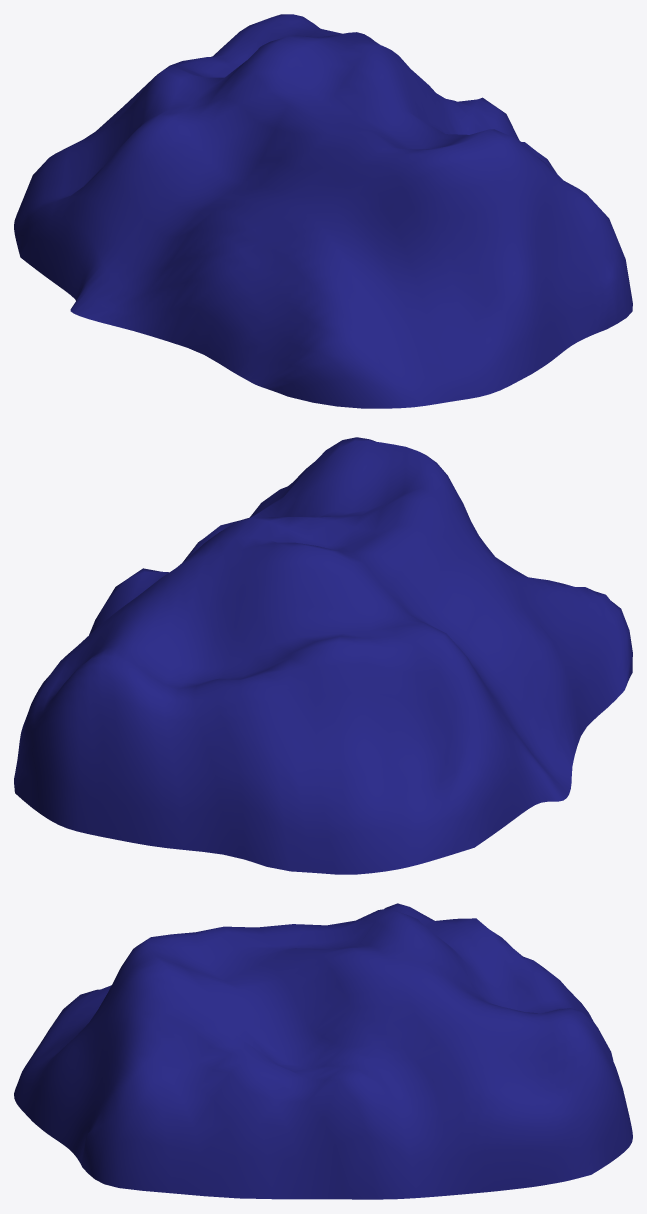
Rendered from pile_6_v2.FBX.
3 views of the same model, one above another, from view 1: azimuth 30°, elevation 25°; view 2: azimuth 150°, elevation 25°; view 3: azimuth 270°, elevation 25° (orthographic). The views are drawn at different scales.
Parts seen in each view (by area): view 1: pile_004; view 2: pile_004; view 3: pile_004.
Part boxes in pixels (<box>): pile_004: <box>14,14,632,408</box>; pile_004: <box>14,437,632,874</box>; pile_004: <box>14,903,632,1199</box>.
Bounding box in the file's own units: 350 × 147 × 447.
